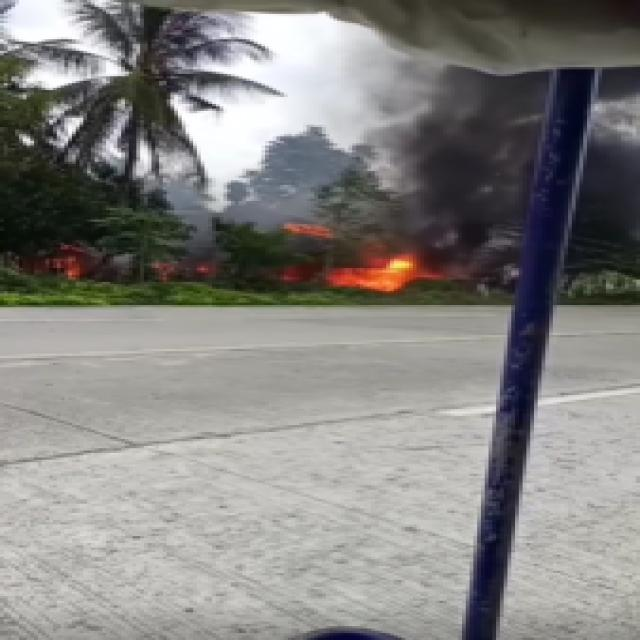Fire: (300, 224, 448, 308)
Smoke: (336, 81, 542, 257), (591, 83, 640, 250)
